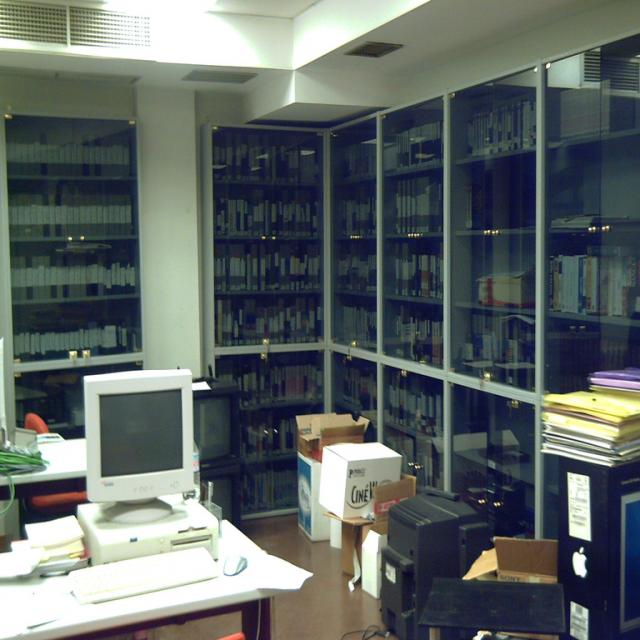desk: (0, 518, 311, 640)
keyboard: (66, 548, 216, 606)
mouse: (222, 554, 248, 578)
tv: (84, 368, 195, 505)
